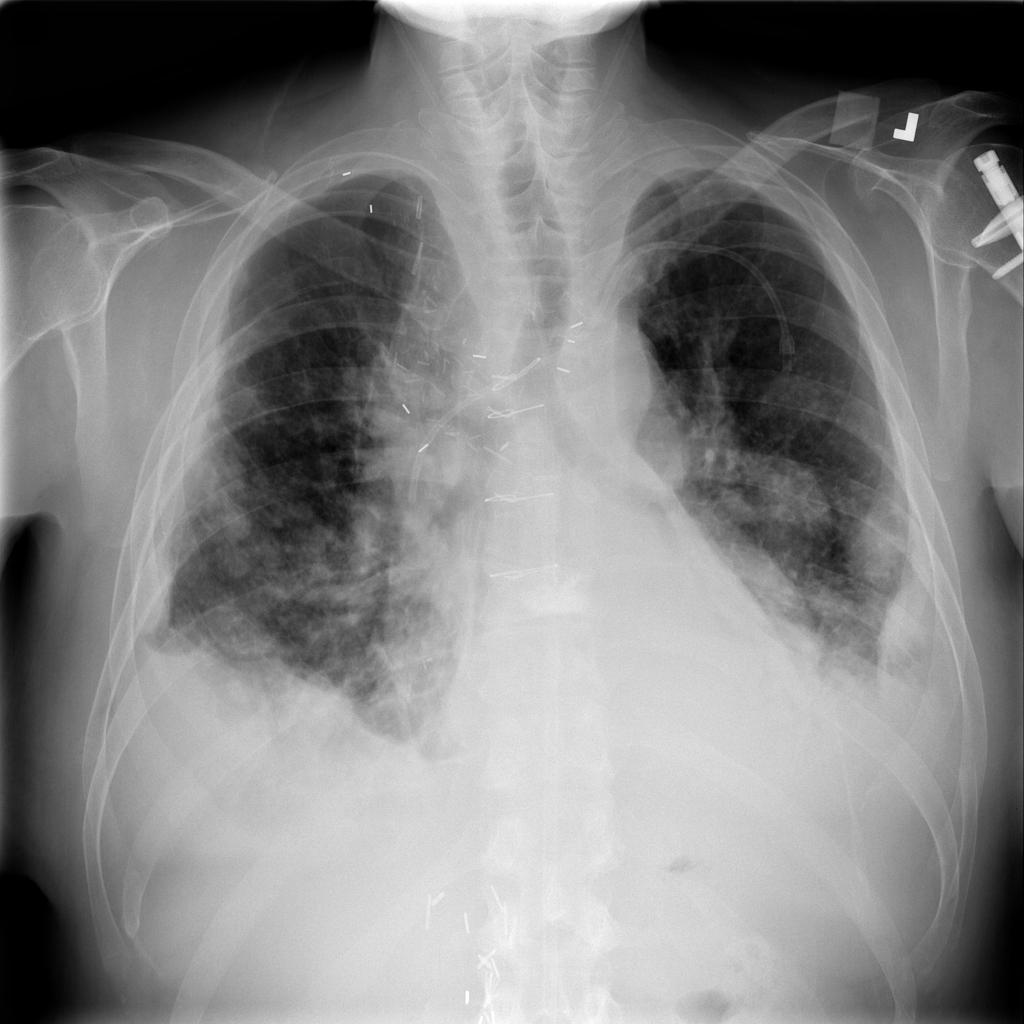nodule: (681, 524, 824, 653), (248, 659, 370, 764), (737, 446, 844, 561), (834, 489, 930, 598), (867, 585, 944, 664), (761, 612, 832, 687), (199, 478, 267, 555)
